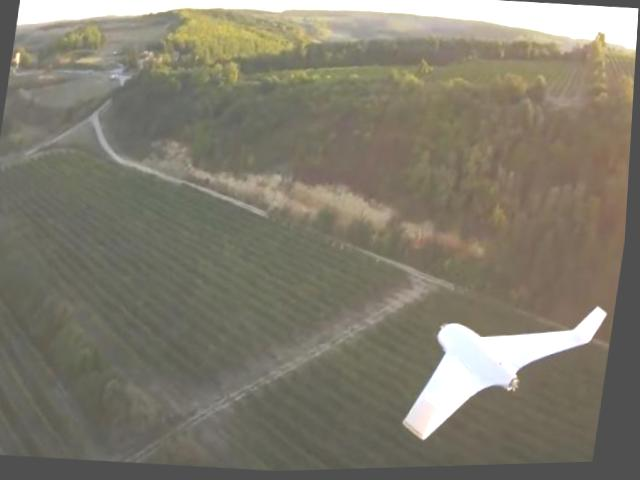iha: (397, 290, 615, 460)
